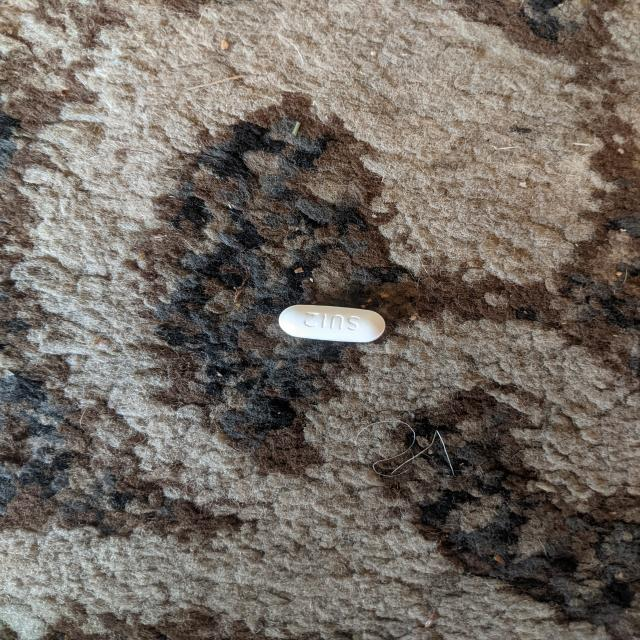non-organic waste: (278, 304, 386, 343)
